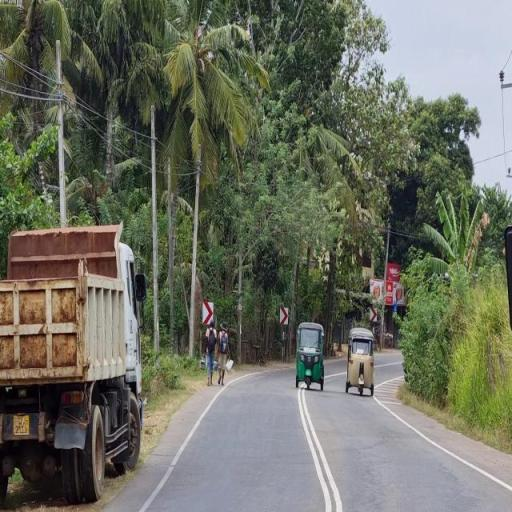double_white_line: (298, 386, 342, 511)
